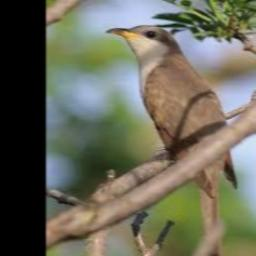Cuckoo: (106, 25, 237, 256)
